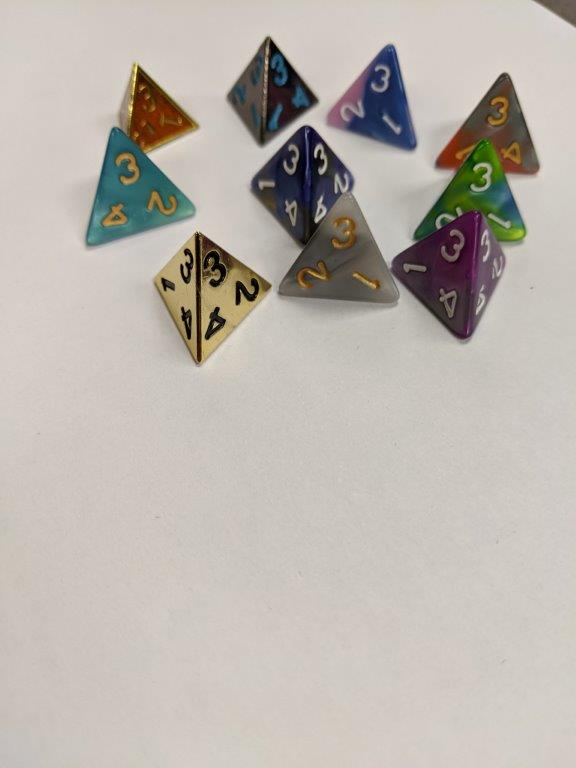d4-3: (150, 230, 272, 365), (391, 209, 510, 342), (79, 124, 197, 249), (278, 192, 402, 309), (245, 122, 355, 242), (414, 139, 528, 249), (433, 71, 542, 177), (322, 43, 423, 157), (224, 33, 320, 148), (116, 58, 200, 161)
